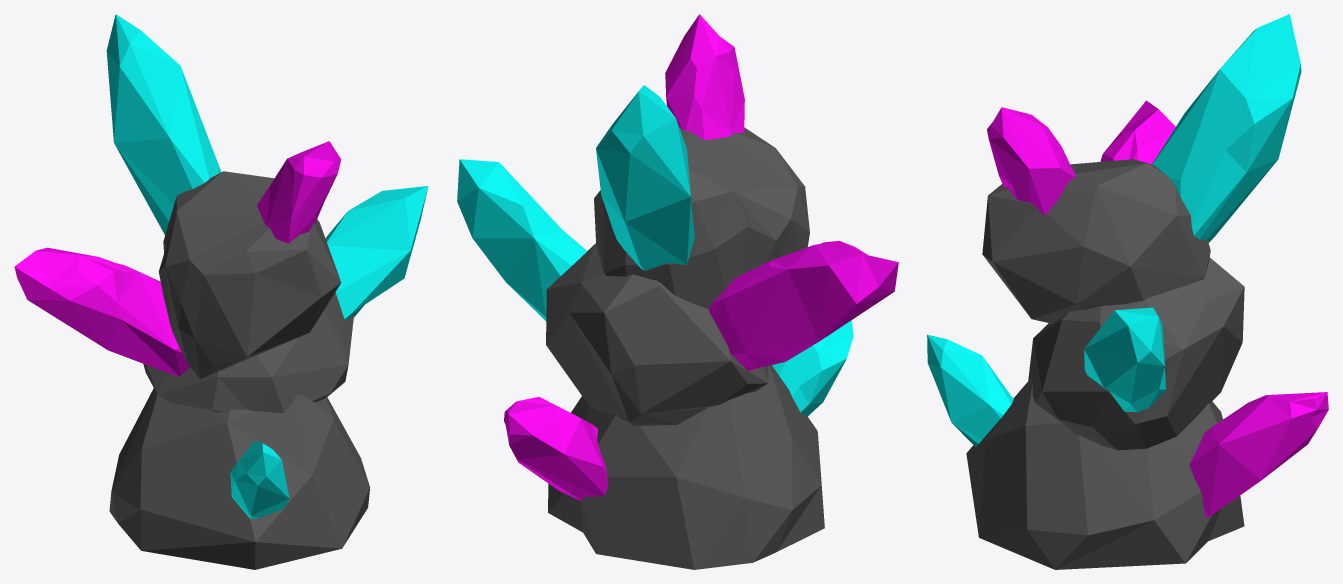
The model's file is CrystalCluster_8.fbx.
3 renders of one model, left to right at view 1: azimuth 30°, elevation 25°; view 2: azimuth 150°, elevation 25°; view 3: azimuth 270°, elevation 25°, orthographic. The views are drawn at different scales.
Parts seen in each view (by area): view 1: CrystalCluster_7; view 2: CrystalCluster_7; view 3: CrystalCluster_7.
Boxes of the visible parts, bbox=[...] form: CrystalCluster_7: bbox=[14, 14, 428, 569]; CrystalCluster_7: bbox=[457, 14, 898, 569]; CrystalCluster_7: bbox=[927, 14, 1328, 569].
Size of the model in its own units: 211 by 223 by 169.
